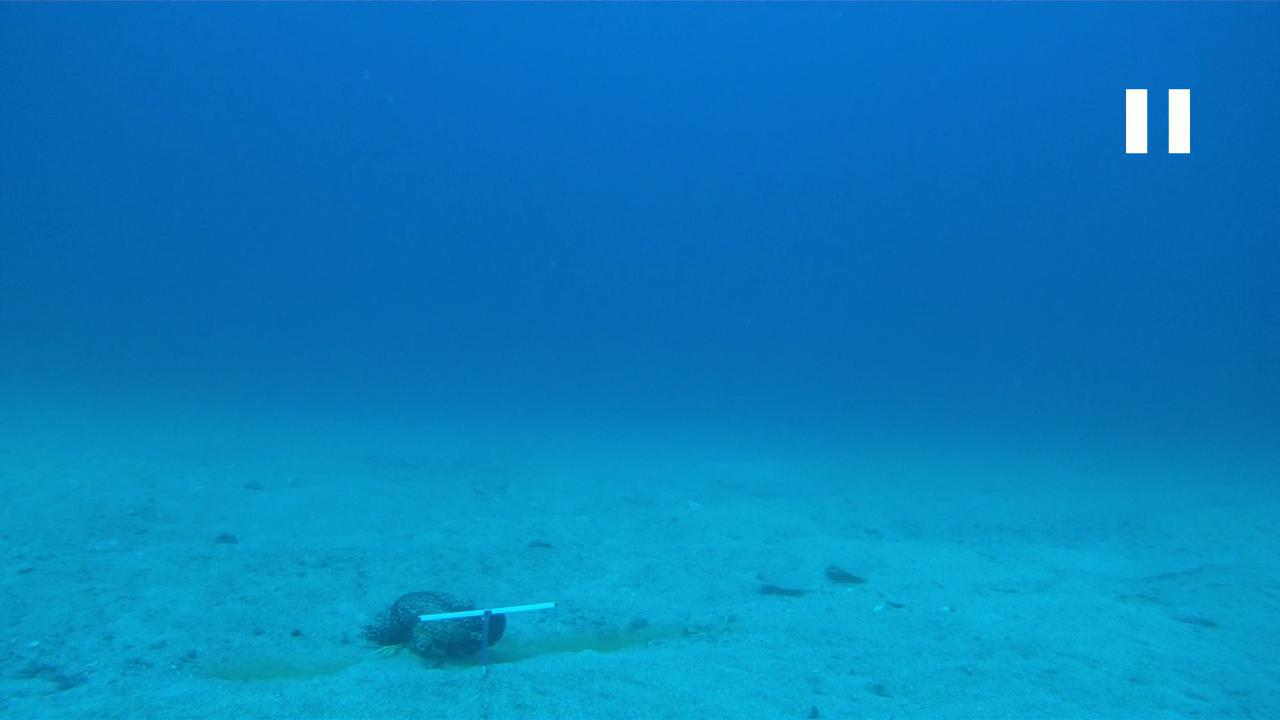bothus: (749, 564, 826, 599), (812, 557, 880, 586)
